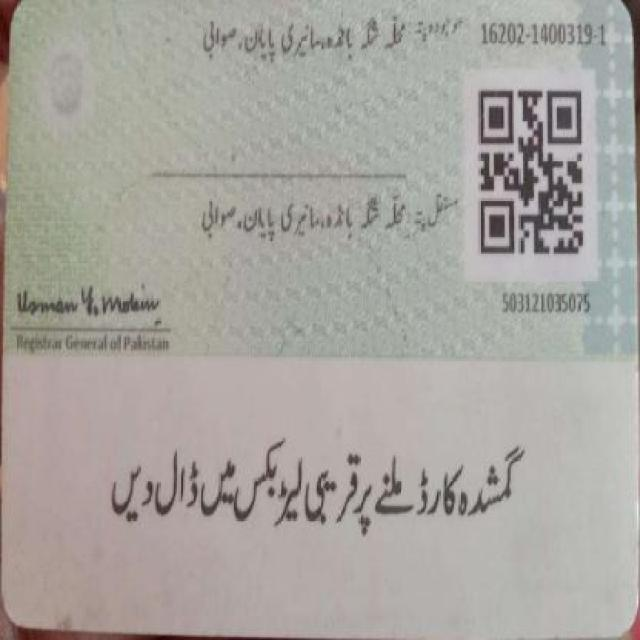Back: (9, 6, 636, 620)
